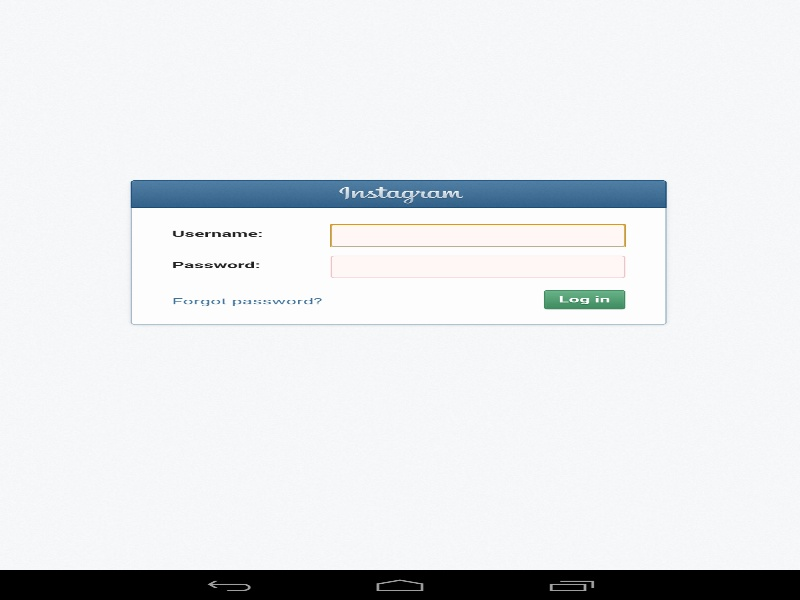Button: (544, 290, 626, 309)
Input: (330, 255, 625, 278), (330, 224, 625, 246)
